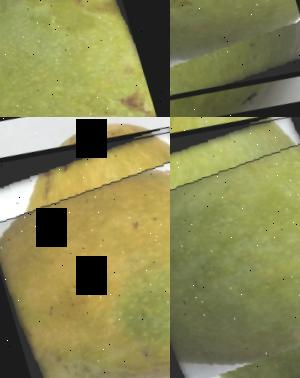PartiallyRipe: (0, 117, 170, 378)
Unripe: (170, 117, 300, 378), (0, 0, 170, 117), (170, 0, 300, 117)
